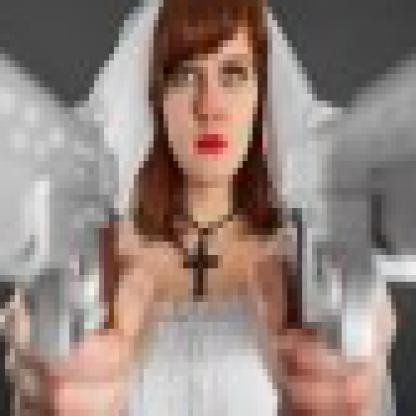gun: (0, 0, 144, 410), (272, 0, 411, 410)
